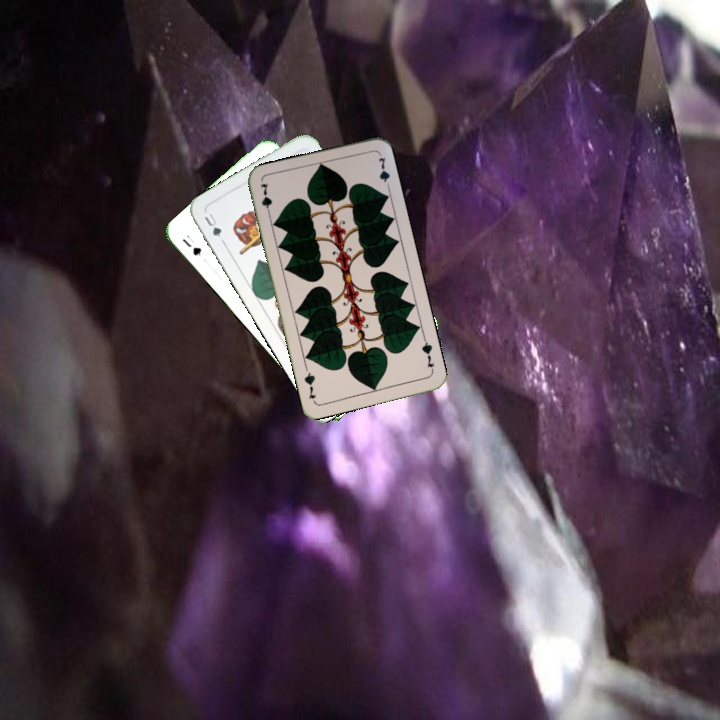G7: (418, 334, 437, 374), (257, 179, 275, 220)
GU: (200, 208, 224, 240), (178, 235, 204, 258)
